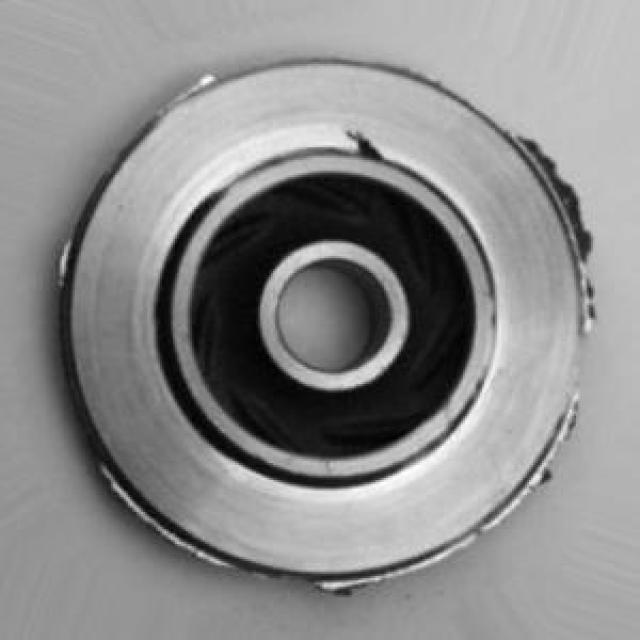Defect: (351, 124, 379, 165)
